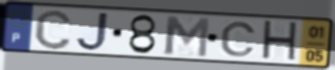8: (127, 14, 159, 55)
C: (33, 8, 74, 51), (219, 20, 258, 58)
H: (259, 19, 300, 64)
J: (74, 11, 111, 52)
M: (163, 14, 212, 59)
